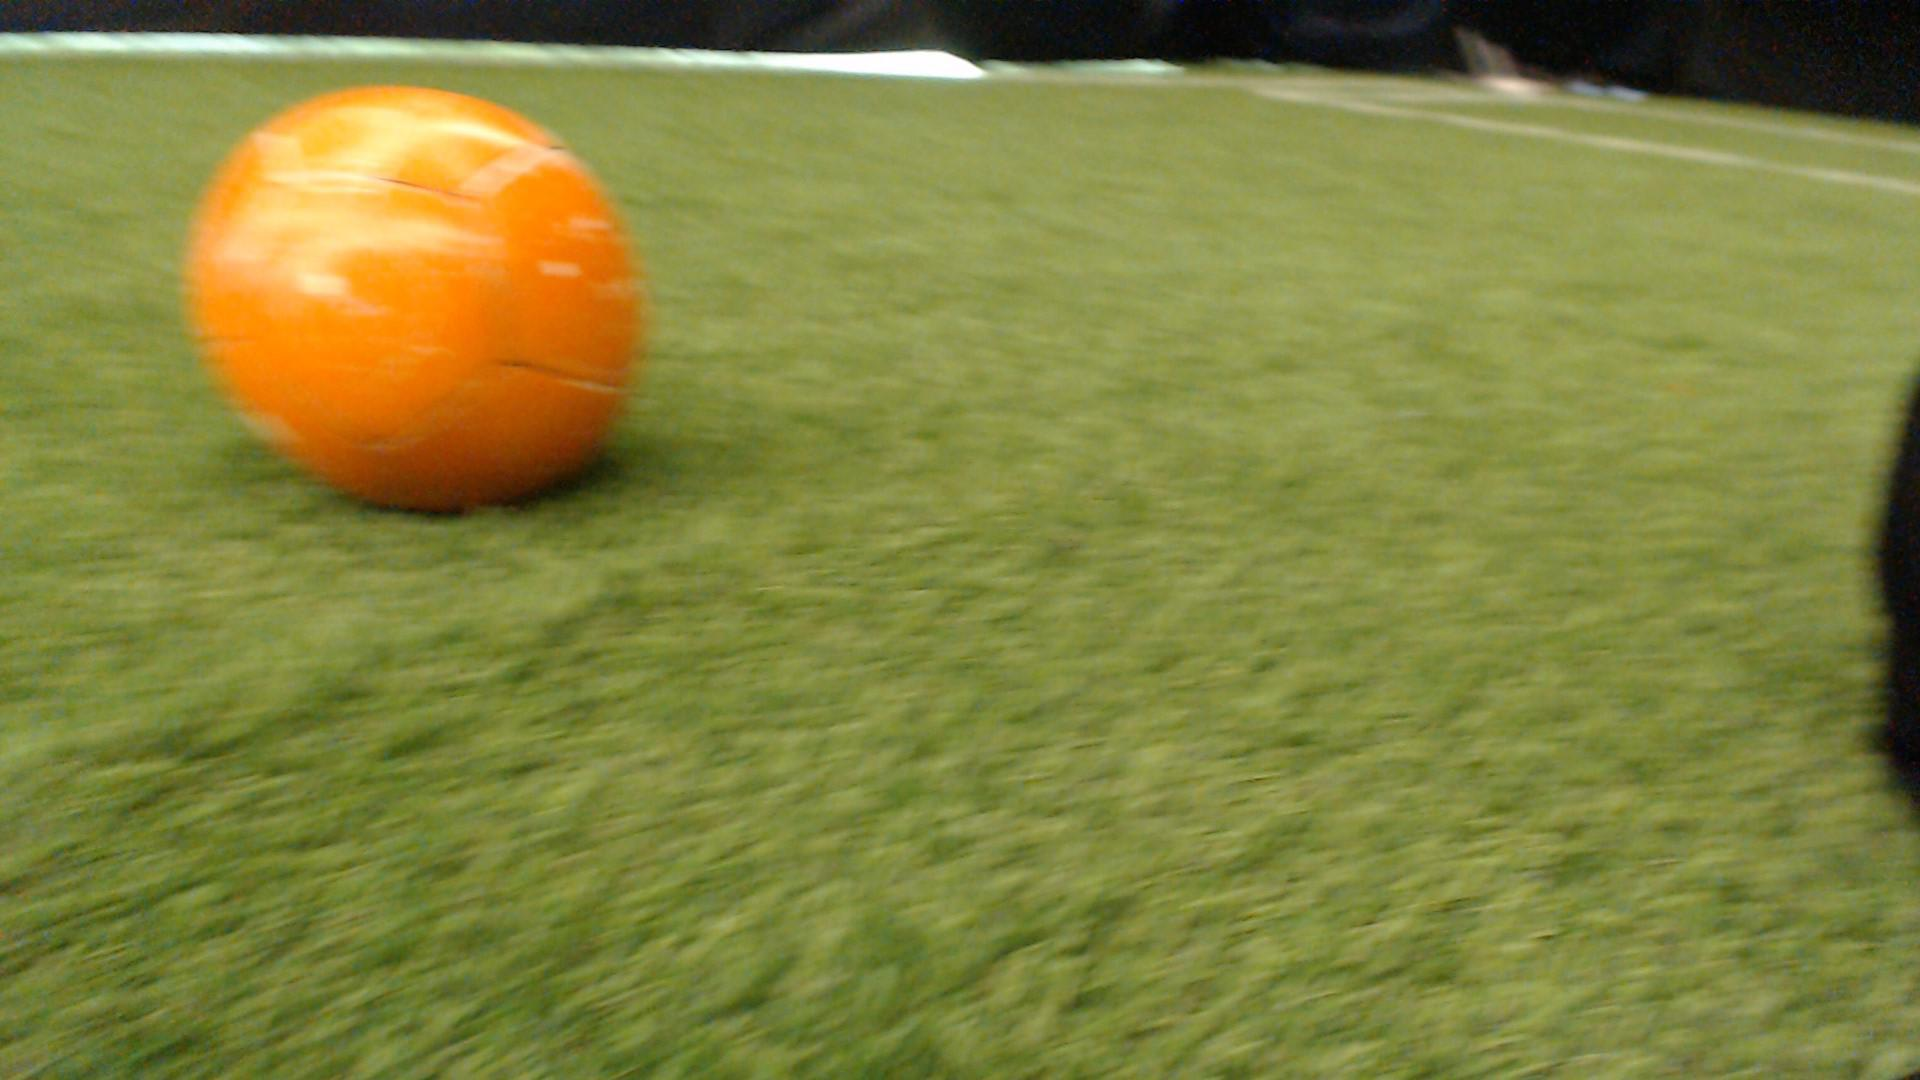bola: (157, 62, 729, 539)
